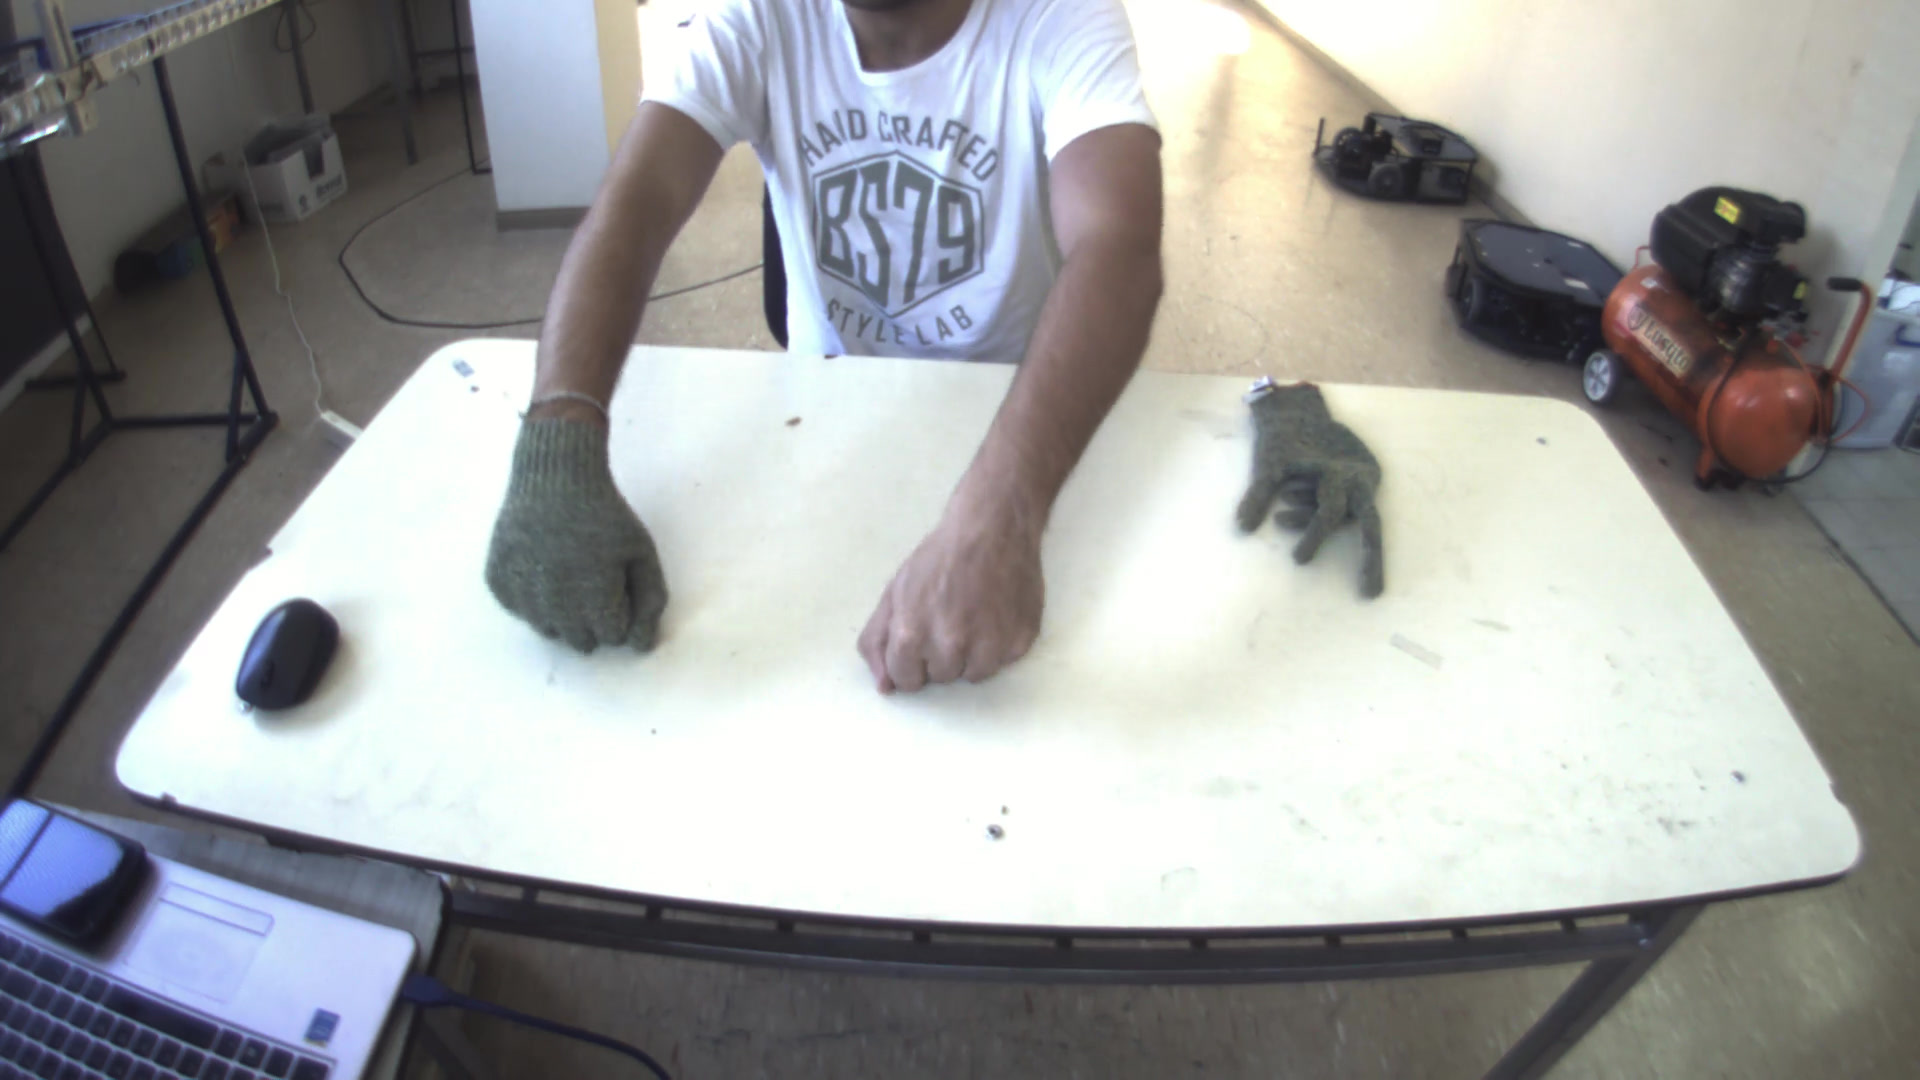hand: (468, 386, 674, 659), (858, 493, 1062, 698)
